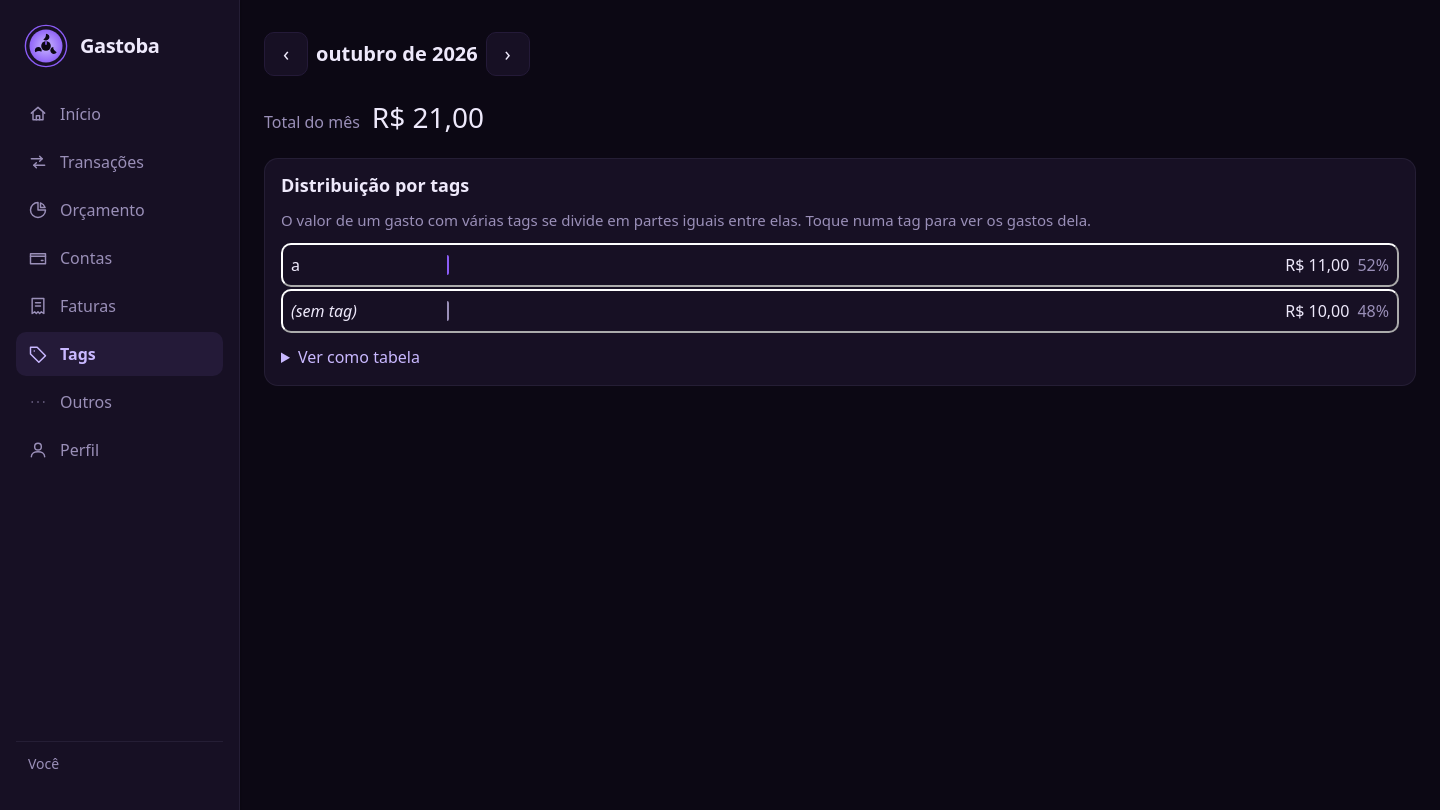
Scenario: Tags › clicar em 'Sem tag' lista os gastos sem tag
Click the button with aria-label "Sem tag: " at [324, 311], box [281,289,1399,333]
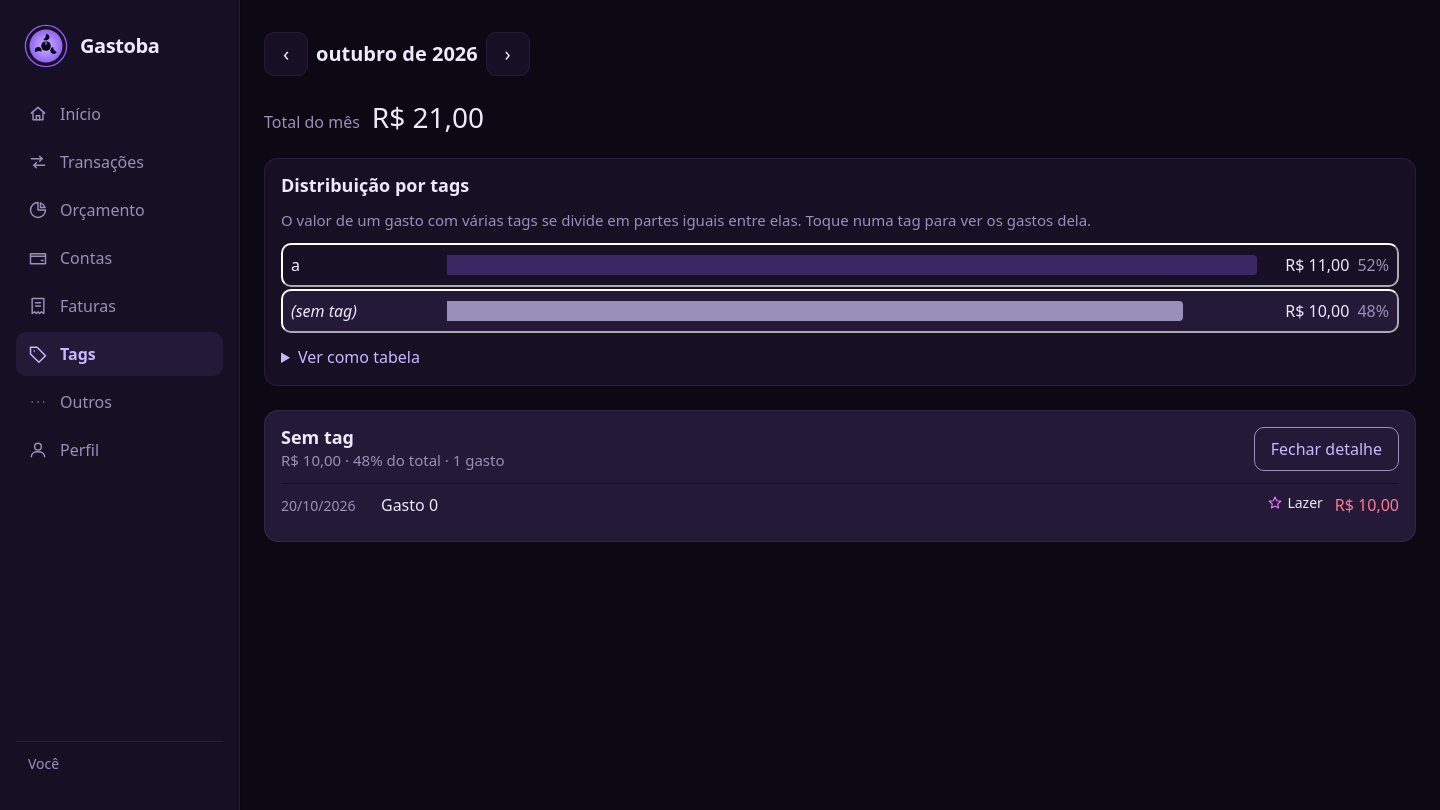
Check: the element "Sem tag" shows "Gasto 0", box [381,494,438,516]
